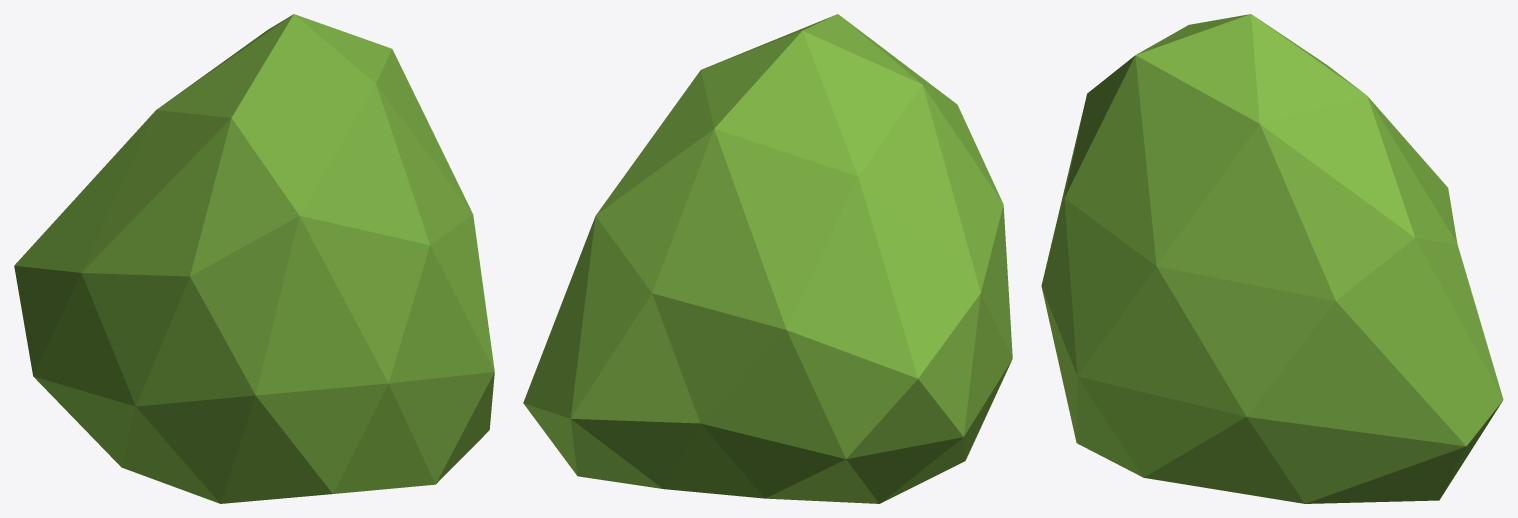
The model's file is Bush_01.fbx.
3 views of the same model, side by side, from view 1: azimuth 30°, elevation 25°; view 2: azimuth 150°, elevation 25°; view 3: azimuth 270°, elevation 25° (orthographic). The views are drawn at different scales.
Parts seen in each view (by area): view 1: Bush1.001; view 2: Bush1.001; view 3: Bush1.001.
Part boxes in pixels (x1=…): Bush1.001: x1=14, y1=14, x2=494, y2=503; Bush1.001: x1=523, y1=14, x2=1012, y2=503; Bush1.001: x1=1041, y1=14, x2=1503, y2=503.
Bounding box in the file's own units: 603 × 632 × 623.
